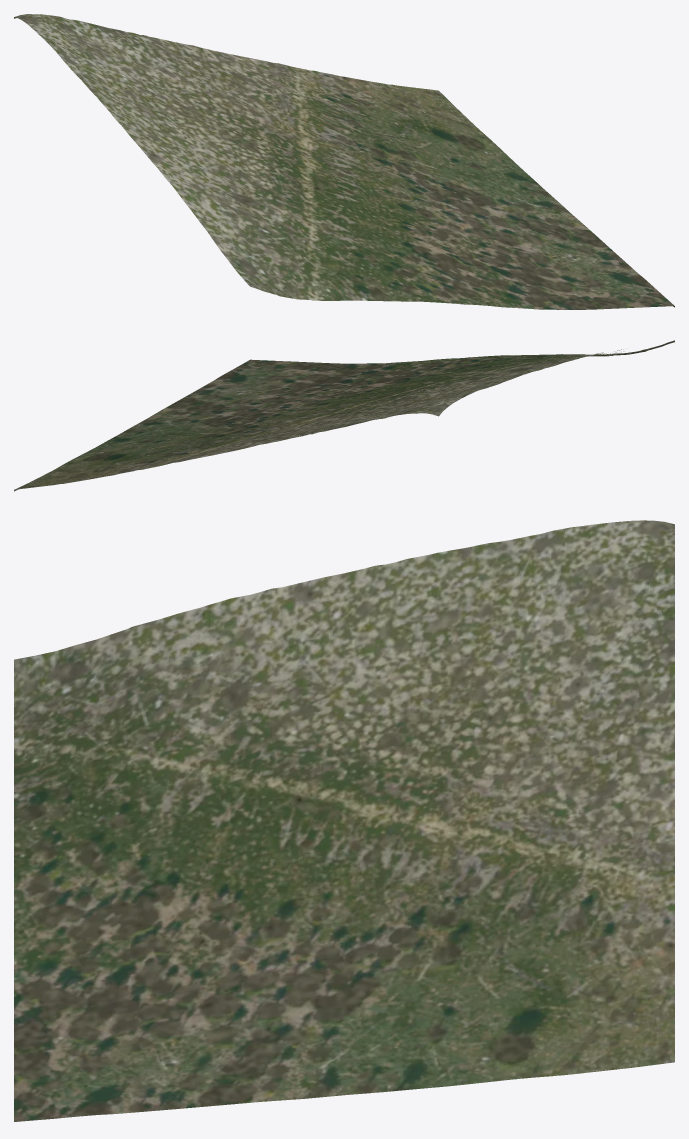
3 renders of one model, top to bottom at view 1: azimuth 30°, elevation 25°; view 2: azimuth 150°, elevation 25°; view 3: azimuth 270°, elevation 25°, orthographic. The views are drawn at different scales.
Bounding box in the file's own units: 250 × 126 × 241.
1 material, 1 textured.
